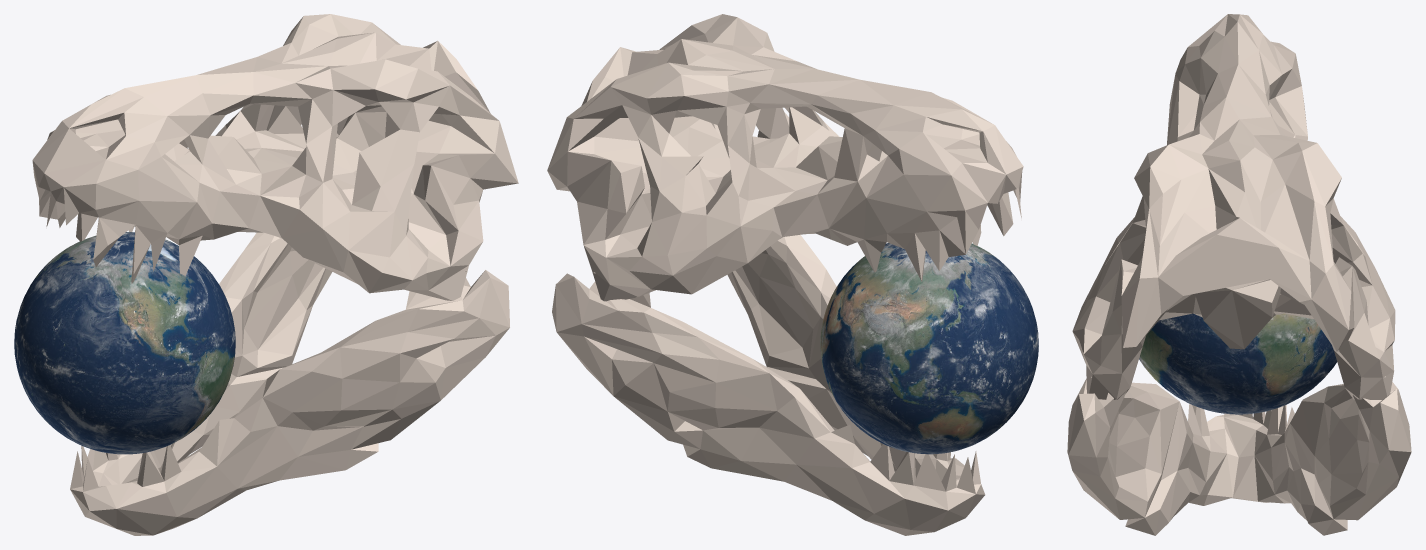
The model's file is paltologicalMap.glb.
3 renders of one model, left to right at view 1: azimuth 30°, elevation 25°; view 2: azimuth 150°, elevation 25°; view 3: azimuth 270°, elevation 25°, orthographic. The views are drawn at different scales.
Parts seen in each view (by area): view 1: T-RexSkull_Skull_SimplePolygons__repaired_, T-RexSkull_Jaw_SimplePolygons__repaired_, Sphere; view 2: T-RexSkull_Skull_SimplePolygons__repaired_, T-RexSkull_Jaw_SimplePolygons__repaired_, Sphere; view 3: T-RexSkull_Skull_SimplePolygons__repaired_, T-RexSkull_Jaw_SimplePolygons__repaired_, Sphere.
Part boxes in pixels (box(x1,y1,x2,y2)): T-RexSkull_Skull_SimplePolygons__repaired_: box(32, 14, 518, 300); T-RexSkull_Jaw_SimplePolygons__repaired_: box(70, 232, 509, 535); Sphere: box(14, 232, 235, 454); T-RexSkull_Skull_SimplePolygons__repaired_: box(547, 14, 1023, 301); T-RexSkull_Jaw_SimplePolygons__repaired_: box(552, 234, 985, 535); Sphere: box(820, 243, 1038, 454); T-RexSkull_Skull_SimplePolygons__repaired_: box(1072, 14, 1395, 399); T-RexSkull_Jaw_SimplePolygons__repaired_: box(1067, 376, 1411, 535); Sphere: box(1139, 313, 1336, 414).
Size of the model in its own units: 89.58 by 87.23 by 57.36.
Materials: 2 (1 with a texture image).
